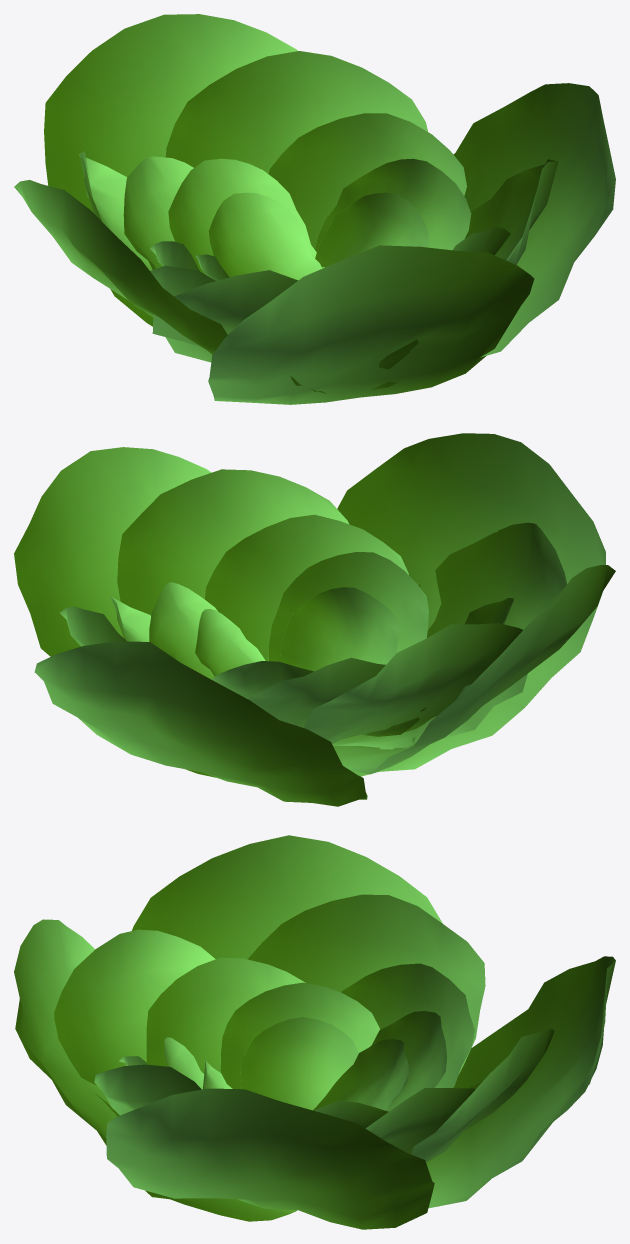
File: Supermarket_Run_Lattuce.fbx
3 views of the same model, one above another, from view 1: azimuth 30°, elevation 25°; view 2: azimuth 150°, elevation 25°; view 3: azimuth 270°, elevation 25° (orthographic). The views are drawn at different scales.
Visible parts, largest first — view 1: Plane; view 2: Plane; view 3: Plane.
Boxes of the visible parts, x1=… form: Plane: x1=14, y1=14, x2=615, y2=404; Plane: x1=14, y1=433, x2=615, y2=806; Plane: x1=14, y1=835, x2=615, y2=1229.
Bounding box in the file's own units: 253 × 119 × 260.
